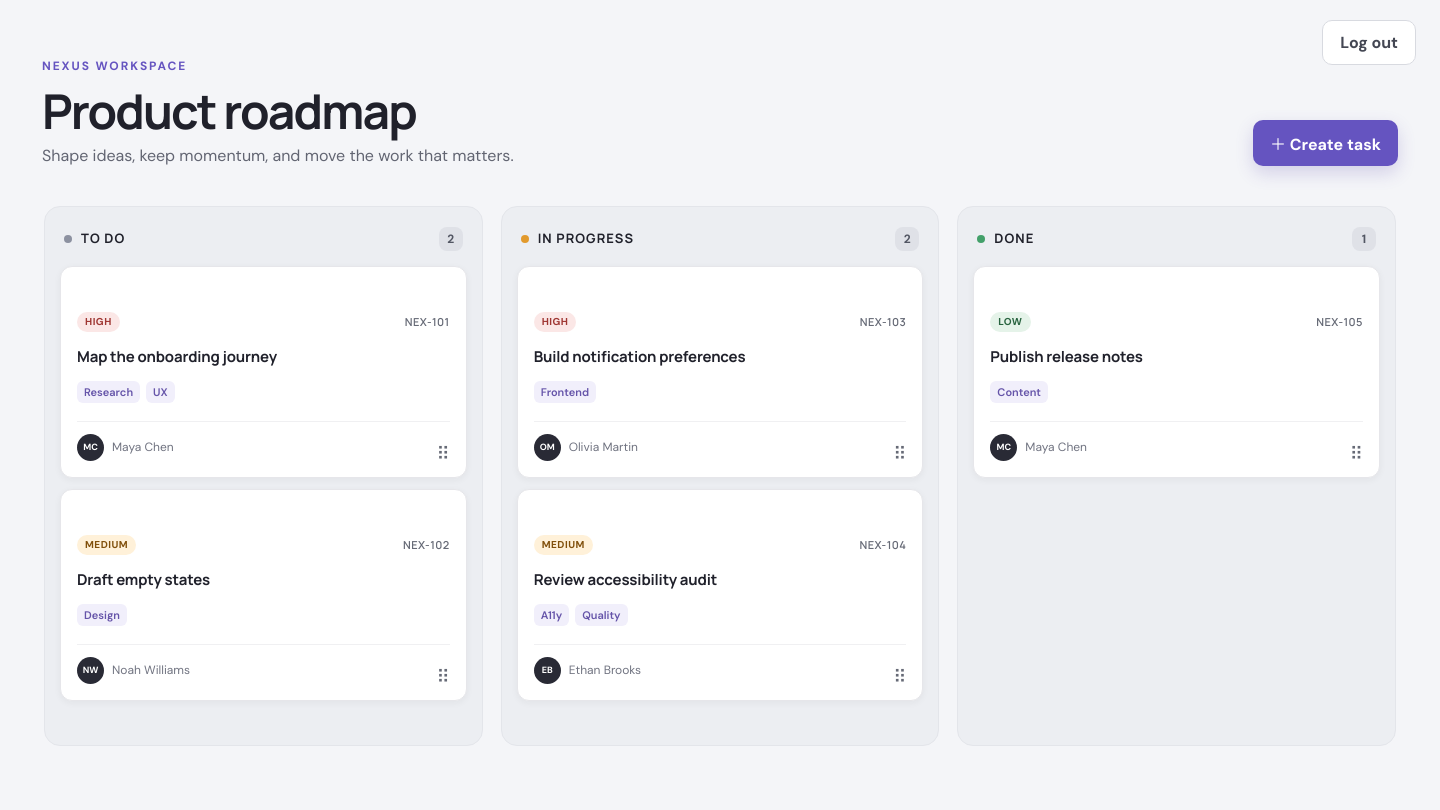
Test: failed logout retains board access and shows an accessible error
The width and height of the screenshot is (1440, 810).
Click the button "Log out": [1369, 42] box [1322,20,1416,65]
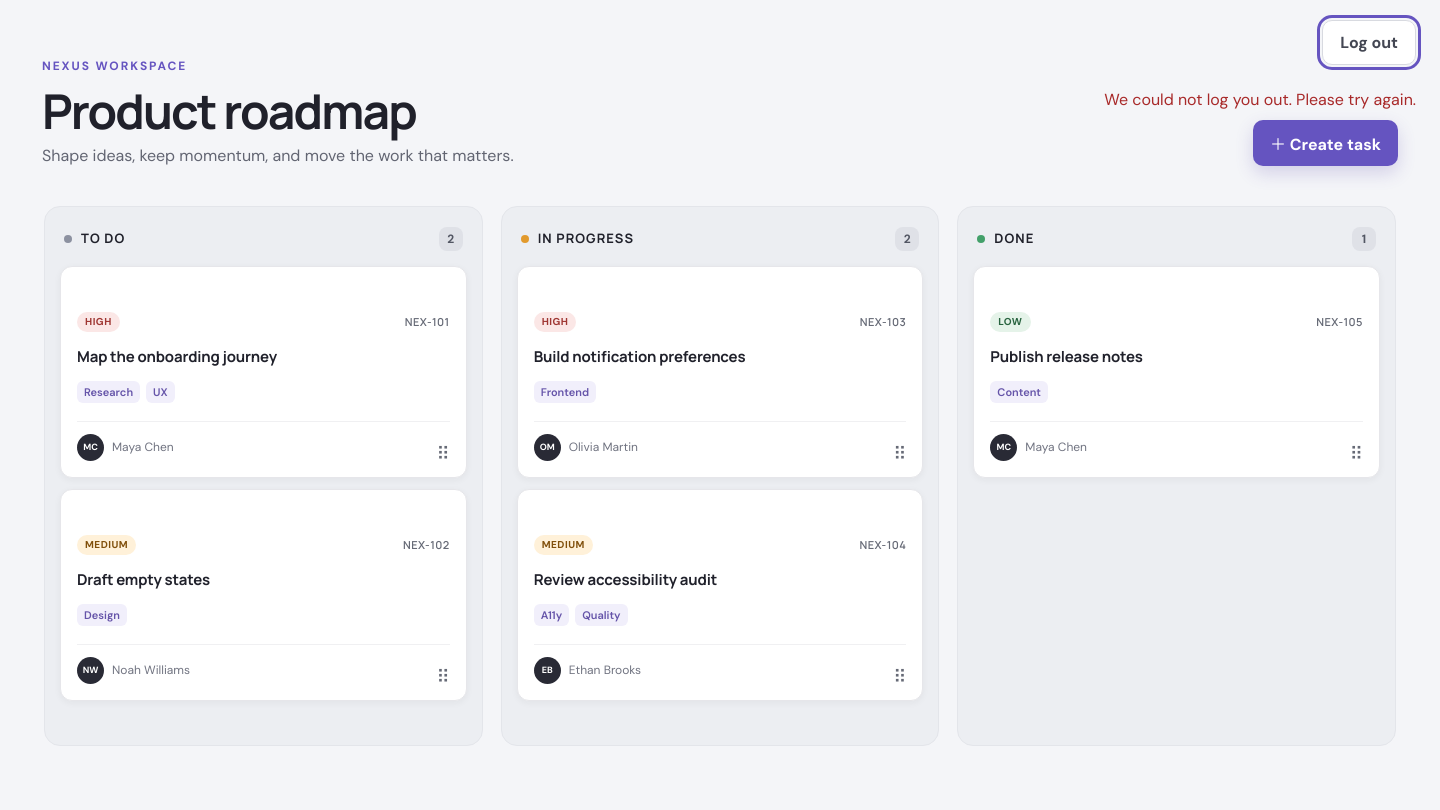
Check: the heading "Product roadmap" is shown, box [42,78,416,143]
Check: the message shows "We could not log you out", box [1104,89,1416,110]
